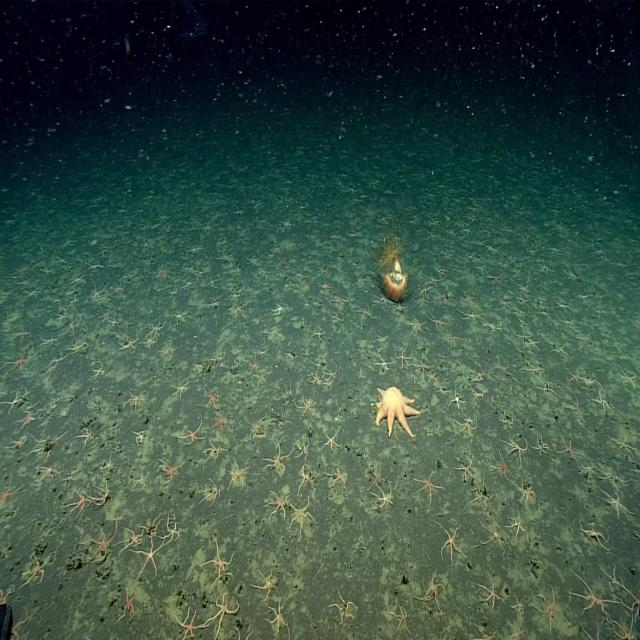brittle-stars: (568, 568, 606, 616), (86, 520, 118, 566), (435, 519, 464, 563), (208, 594, 238, 635), (535, 590, 562, 629), (479, 517, 506, 554), (206, 544, 233, 580), (23, 550, 49, 587), (412, 472, 442, 504), (331, 588, 355, 623), (290, 496, 312, 534), (177, 607, 203, 639), (476, 579, 502, 611), (580, 518, 606, 550), (139, 540, 162, 576), (419, 571, 444, 604), (33, 432, 63, 458), (264, 442, 289, 472), (471, 476, 492, 510), (601, 487, 623, 519), (556, 432, 578, 464), (390, 601, 410, 636), (252, 569, 276, 598), (227, 459, 249, 490), (159, 456, 184, 483), (599, 465, 626, 490), (610, 430, 634, 458), (451, 415, 479, 439), (266, 489, 288, 518), (67, 488, 90, 515), (504, 435, 526, 462), (506, 512, 527, 540), (0, 477, 20, 506), (268, 600, 286, 632), (182, 420, 204, 446), (121, 525, 143, 549), (295, 395, 318, 417), (200, 481, 220, 506), (212, 406, 232, 431), (492, 453, 511, 479), (373, 483, 395, 505), (613, 617, 634, 640), (93, 482, 111, 508), (121, 590, 137, 619), (165, 517, 180, 547), (322, 425, 339, 451), (4, 390, 24, 412), (80, 424, 98, 448), (515, 482, 534, 504), (144, 514, 162, 537), (567, 396, 584, 420), (395, 344, 412, 368), (278, 381, 294, 406), (10, 352, 28, 374), (456, 458, 474, 480), (441, 329, 460, 349), (449, 388, 466, 410), (161, 337, 178, 359), (594, 389, 610, 412), (620, 367, 636, 390), (128, 391, 146, 411), (414, 356, 434, 374), (19, 406, 34, 429), (332, 468, 347, 491), (41, 464, 59, 483), (524, 359, 542, 378), (149, 316, 166, 336), (204, 387, 220, 408), (530, 436, 546, 457), (133, 466, 148, 488), (507, 621, 524, 640), (458, 308, 478, 324), (205, 442, 222, 460), (12, 328, 32, 343), (172, 381, 189, 398), (68, 340, 86, 356), (120, 336, 138, 352), (297, 466, 313, 484), (250, 414, 262, 438), (511, 592, 524, 613), (296, 437, 309, 458), (374, 293, 391, 309), (270, 301, 288, 316), (133, 427, 147, 446), (496, 356, 510, 375), (23, 286, 42, 300), (410, 316, 426, 332), (92, 360, 104, 380), (582, 372, 597, 388), (375, 354, 390, 370), (470, 365, 484, 382), (329, 294, 346, 308), (120, 312, 133, 330), (566, 368, 579, 386), (430, 313, 445, 328), (426, 272, 441, 287), (553, 342, 567, 358), (562, 313, 576, 329), (268, 323, 281, 340), (102, 454, 114, 472), (373, 468, 385, 486), (357, 305, 372, 319), (294, 267, 308, 282), (498, 296, 512, 311), (42, 334, 58, 347), (312, 327, 325, 343), (228, 287, 240, 304), (72, 272, 86, 286), (173, 310, 187, 324), (142, 334, 157, 347), (99, 307, 111, 323), (88, 260, 104, 272), (255, 345, 269, 358), (462, 289, 474, 304), (486, 271, 501, 283), (91, 285, 102, 301), (309, 370, 321, 384), (325, 366, 337, 380), (56, 253, 68, 267), (584, 458, 594, 474), (321, 281, 334, 293), (208, 276, 219, 289), (323, 378, 333, 392), (157, 264, 167, 278), (518, 281, 528, 294), (182, 279, 195, 289)
